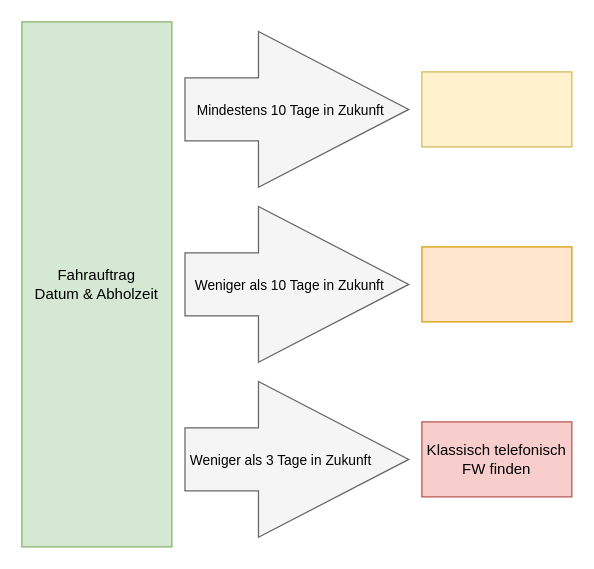
The diagram is 594 pixels wide and 569 high, and some of its shapes have lost their labels. The box of each missing label's shape, as (x1, y1, x2, y2) in pixels:
Direktanfrage: (421, 246, 572, 322)
Marktplatz: (421, 71, 572, 147)
